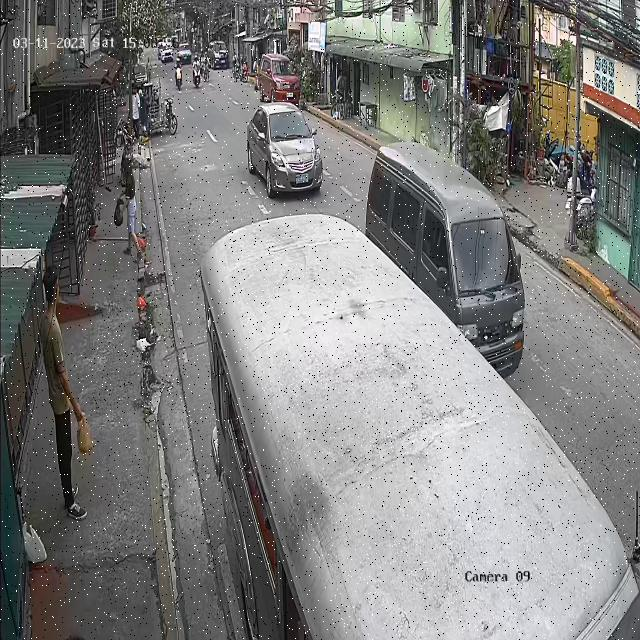human: (40, 264, 93, 522), (114, 156, 144, 266)
trash: (17, 519, 48, 571), (75, 409, 95, 460), (114, 192, 124, 228)
